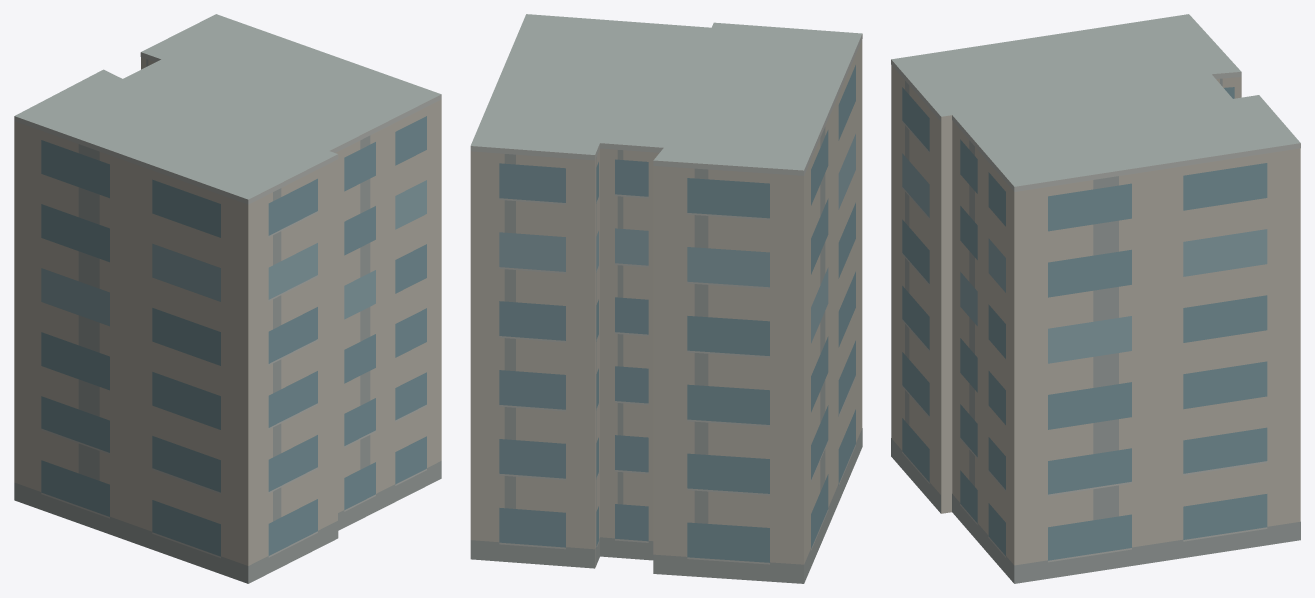
Rendered from survey-upis-33009441.glb.
The picture shows the model from 3 angles, left to right: view 1: azimuth 30°, elevation 25°; view 2: azimuth 150°, elevation 25°; view 3: azimuth 270°, elevation 25°; orthographic projection. The views are drawn at different scales.
Visible parts, largest first — view 1: survey-upis-33009441.tmp; view 2: survey-upis-33009441.tmp; view 3: survey-upis-33009441.tmp.
Boxes of the visible parts, bbox=[...] form: survey-upis-33009441.tmp: bbox=[14, 14, 441, 583]; survey-upis-33009441.tmp: bbox=[470, 14, 862, 583]; survey-upis-33009441.tmp: bbox=[891, 14, 1300, 583].
Size of the model in its own units: 17.47 by 18.7 by 17.5.
